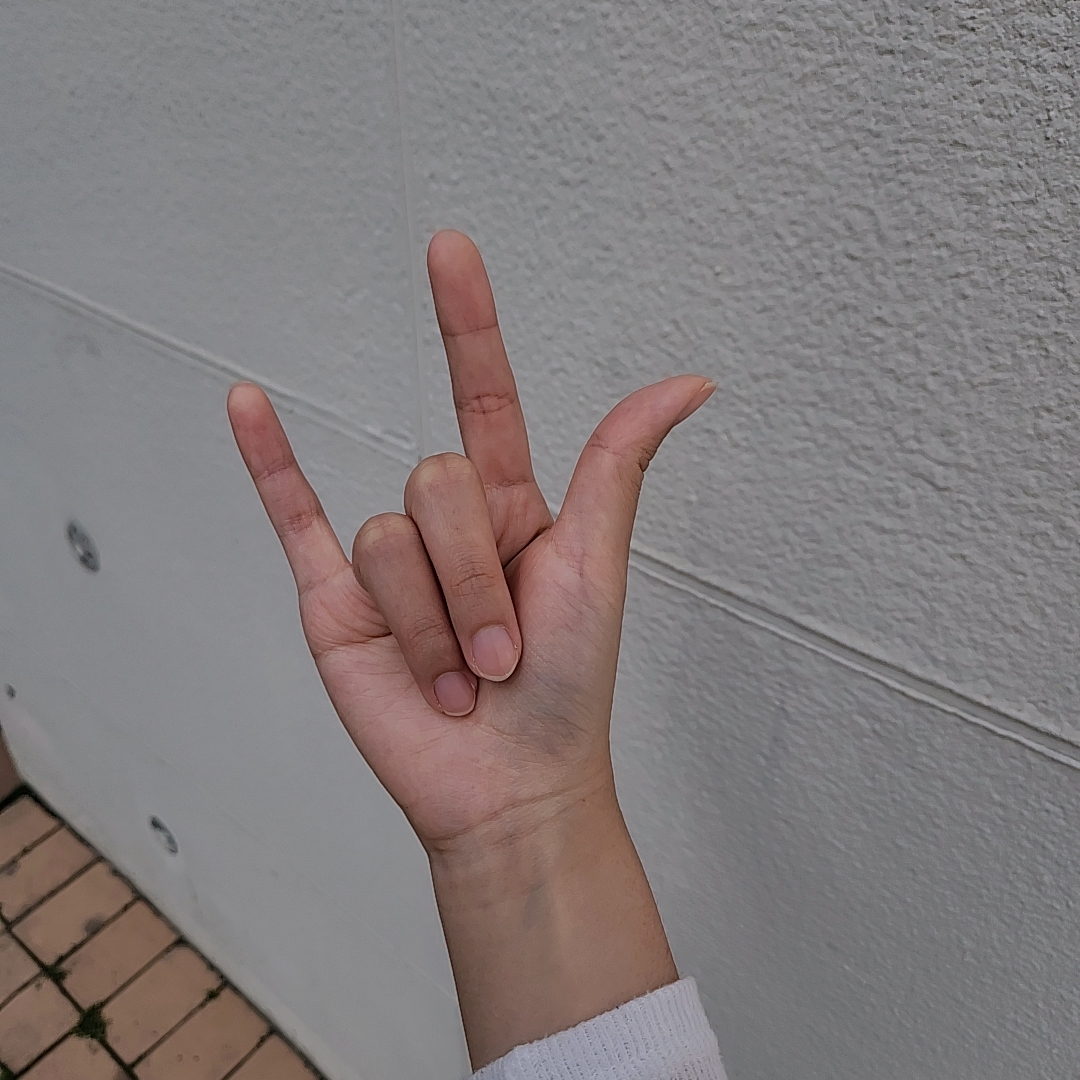iloveyou: (230, 230, 719, 832)
